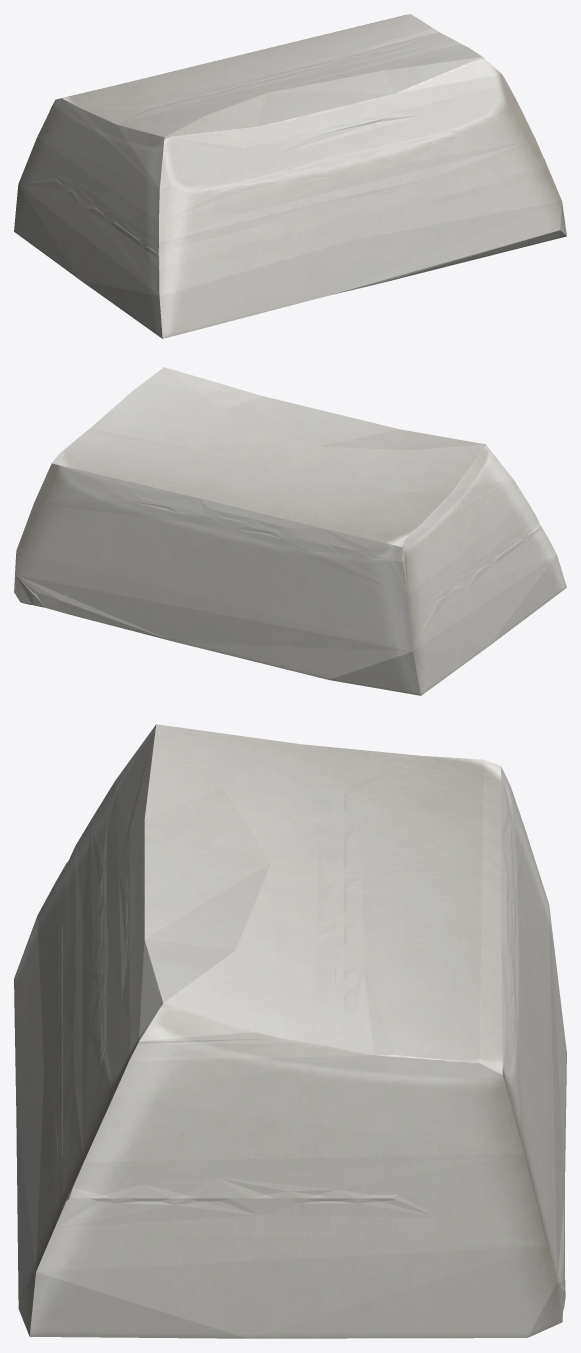
Rendered from keycap150.glb.
3 views of the same model, one above another, from view 1: azimuth 30°, elevation 25°; view 2: azimuth 150°, elevation 25°; view 3: azimuth 270°, elevation 25° (orthographic). The views are drawn at different scales.
Visible parts, largest first — view 1: keycap150; view 2: keycap150; view 3: keycap150.
Boxes of the visible parts, box(x1,y1,x2,y2) form: keycap150: box(14, 14, 566, 338); keycap150: box(14, 367, 566, 695); keycap150: box(14, 724, 566, 1338).
Bounding box in the file's own units: 28.06 × 10.58 × 18.1.
Materials: 1 (1 with a texture image).
